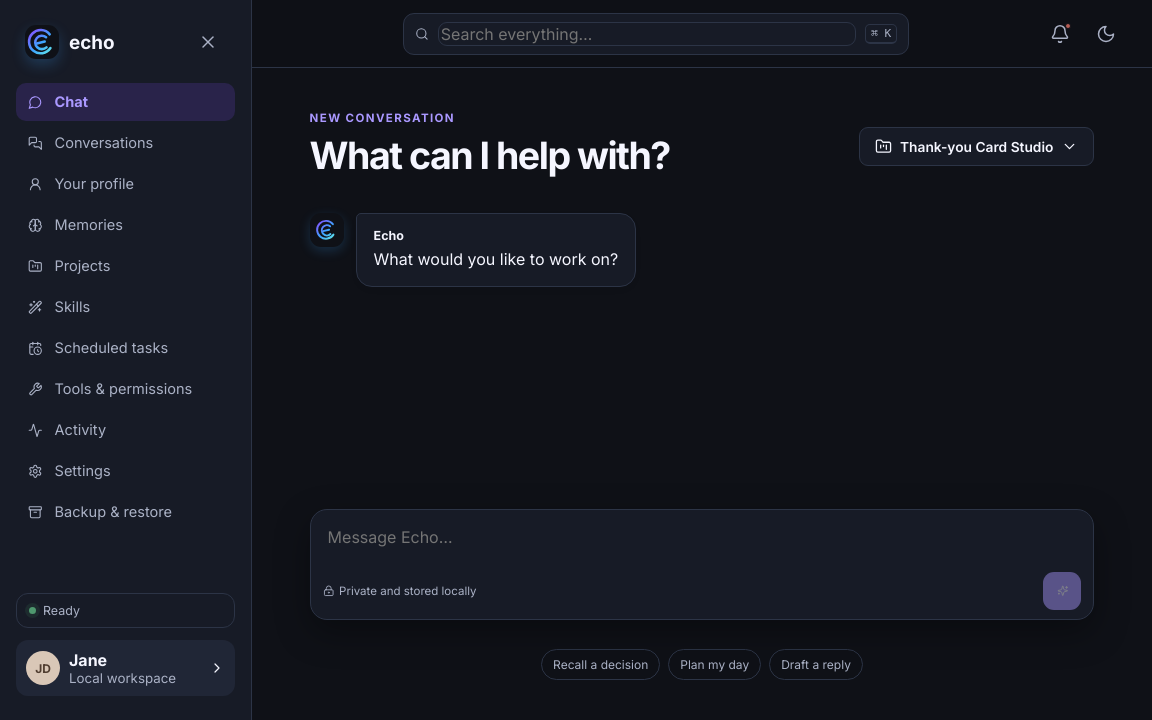
Test: Echo desktop › searches local conversations, memories, projects, and skills
Type "card" into the field labelled "Search everything" at (647, 34), box x1=438 y1=22 x2=856 y2=46
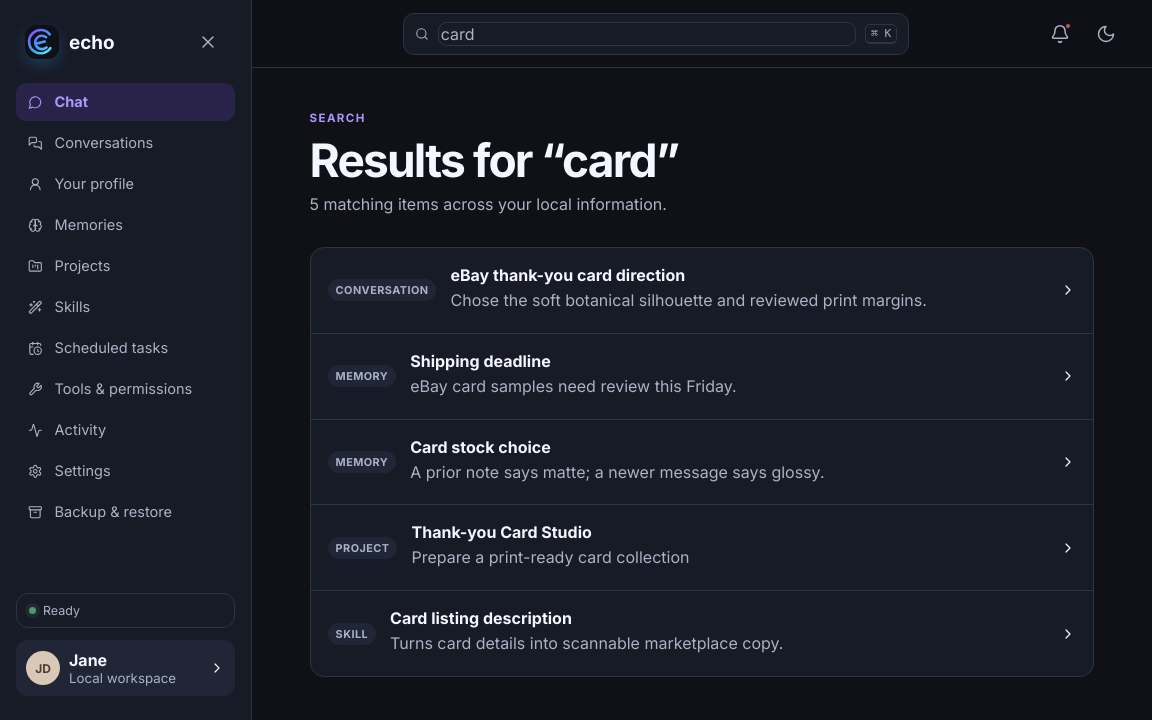
Result: the heading "Results for “card”" is shown at x1=310 y1=136 x2=678 y2=184
Result: the heading "eBay thank-you card direction" is shown at x1=450 y1=265 x2=685 y2=285
Result: the heading "Card listing description" is shown at x1=390 y1=608 x2=572 y2=628
